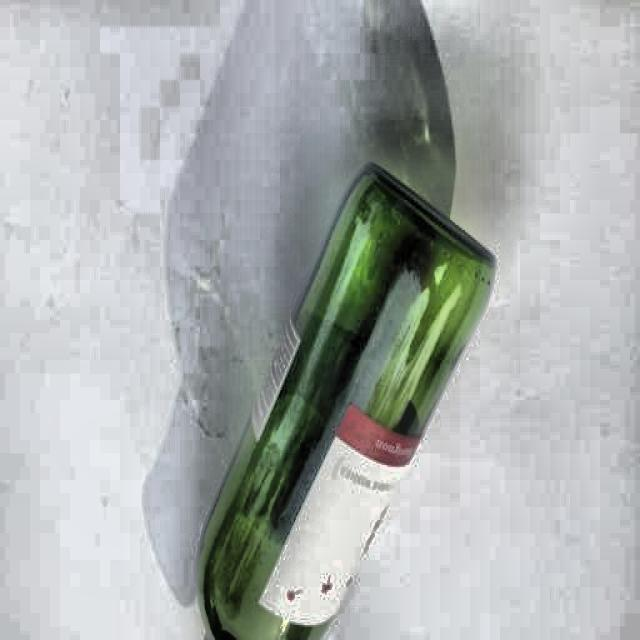glass: (192, 164, 498, 640)
